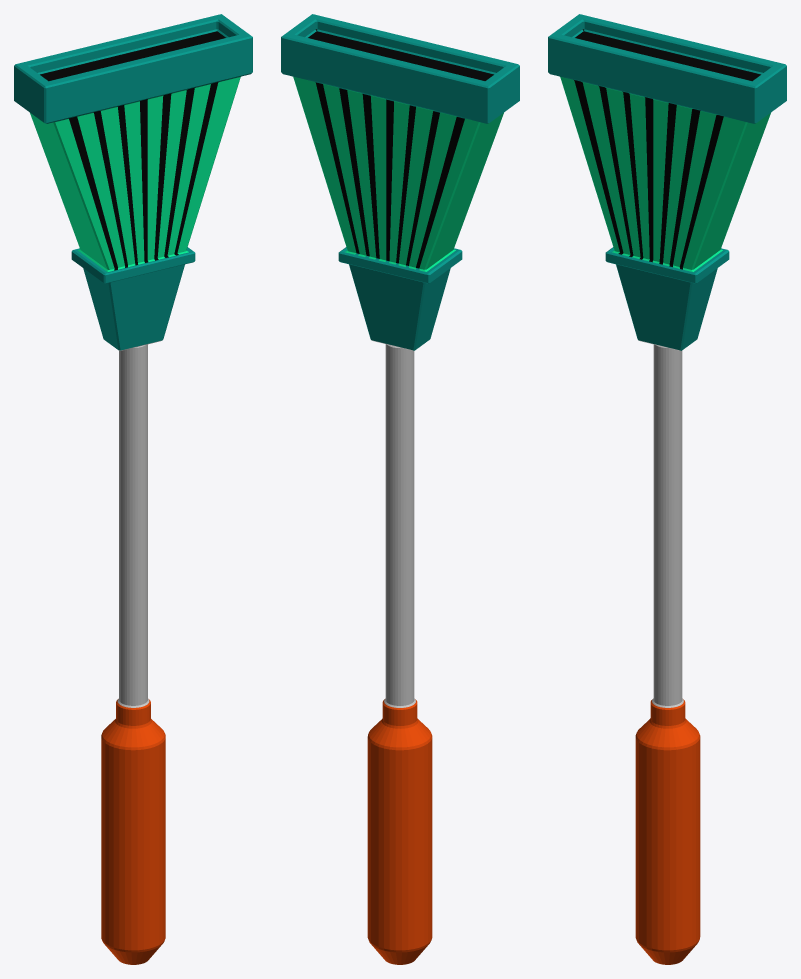
The model's file is PULESOS.fbx.
The picture shows the model from 3 angles, left to right: view 1: azimuth 30°, elevation 25°; view 2: azimuth 150°, elevation 25°; view 3: azimuth 330°, elevation 25°; orthographic projection.
Parts seen in each view (by area): view 1: Cube; view 2: Cube; view 3: Cube.
Part boxes in pixels (x1,y1,x2,y2): Cube: (14, 14, 252, 964); Cube: (281, 14, 519, 964); Cube: (548, 14, 786, 964).
Bounding box in the file's own units: 80.59 × 335 × 22.46.
